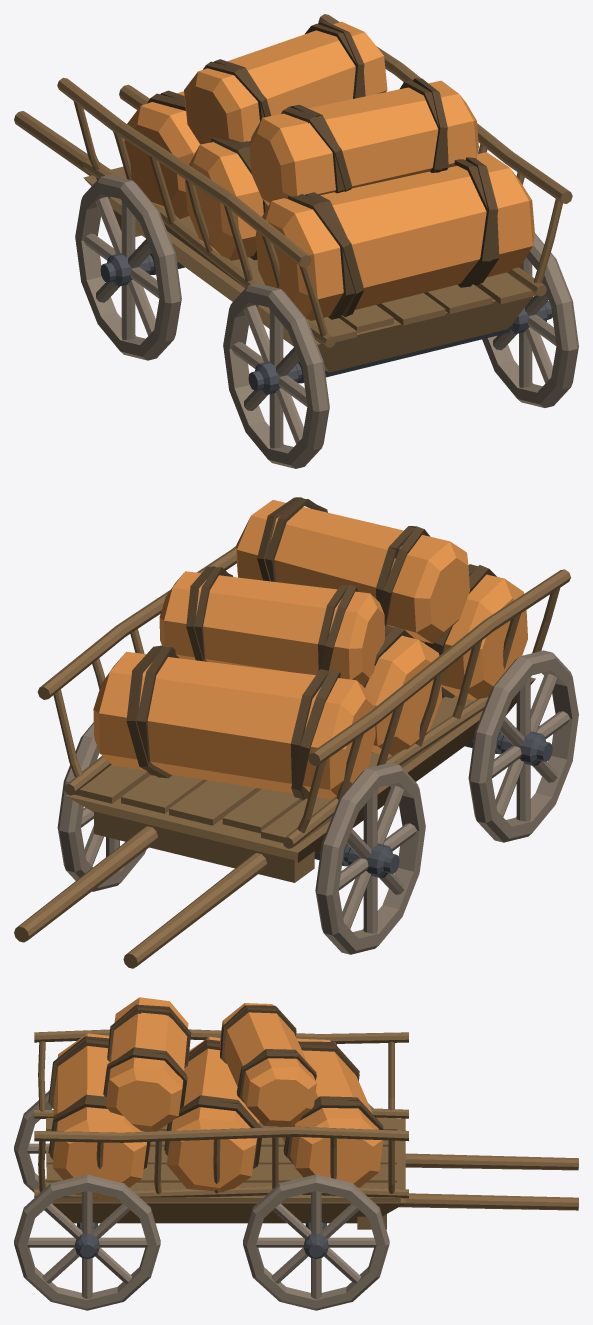
The model's file is Wooden Cart_2.fbx.
3 renders of one model, top to bottom at view 1: azimuth 30°, elevation 25°; view 2: azimuth 150°, elevation 25°; view 3: azimuth 270°, elevation 25°, orthographic. The views are drawn at different scales.
Visible parts, largest first — view 1: Wooden Cart_2; view 2: Wooden Cart_2; view 3: Wooden Cart_2.
Part boxes in pixels (box(x1,y1,x2,y2)): Wooden Cart_2: box(14, 14, 578, 468); Wooden Cart_2: box(14, 497, 578, 968); Wooden Cart_2: box(14, 997, 578, 1310).
Bounding box in the file's own units: 134 × 132 × 287.
